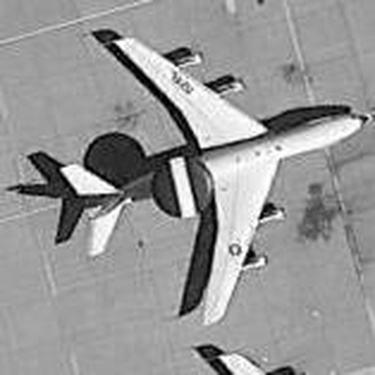airplane: (37, 23, 364, 331), (208, 339, 298, 374)
